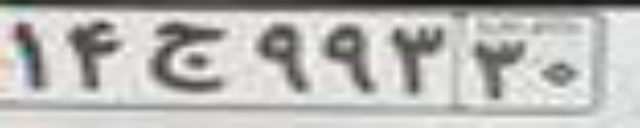0: (535, 58, 579, 88)
1: (13, 20, 48, 89)
3: (388, 25, 452, 96), (473, 37, 529, 99)
4: (65, 20, 123, 91)
9: (254, 24, 310, 95), (322, 23, 375, 94)
jim: (146, 21, 224, 91)
